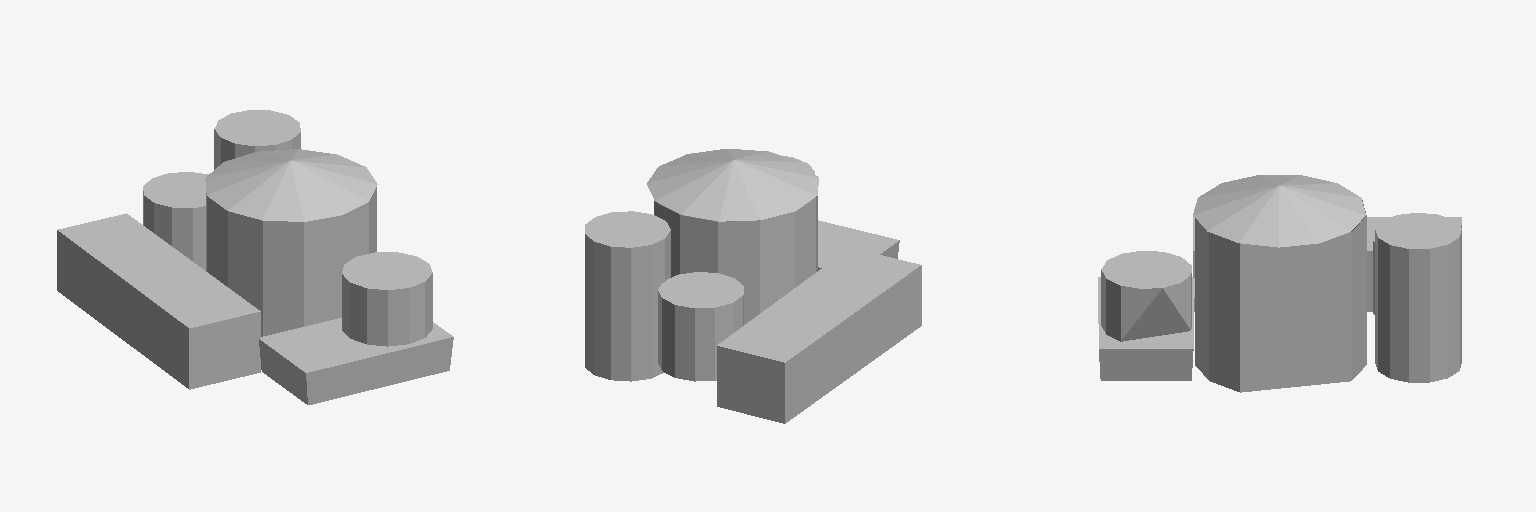
Rendered from superlab_mixer.mtl.obj.
3 renders of one model, left to right at view 1: azimuth 30°, elevation 25°; view 2: azimuth 150°, elevation 25°; view 3: azimuth 270°, elevation 25°, orthographic.
Parts seen in each view (by area): view 1: Cube.001; view 2: Cube.001; view 3: Cube.001.
Boxes of the visible parts, box(x1,y1,x2,y2) form: Cube.001: box(57, 110, 453, 404); Cube.001: box(585, 149, 921, 423); Cube.001: box(1098, 175, 1461, 392).
Size of the model in its own units: 1.13 by 0.8542 by 1.61.